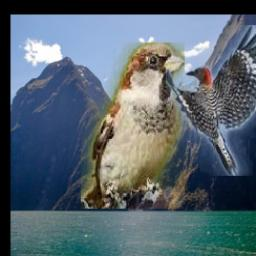Sparrow: (82, 43, 186, 209)
Woodpecker: (167, 25, 256, 176)
